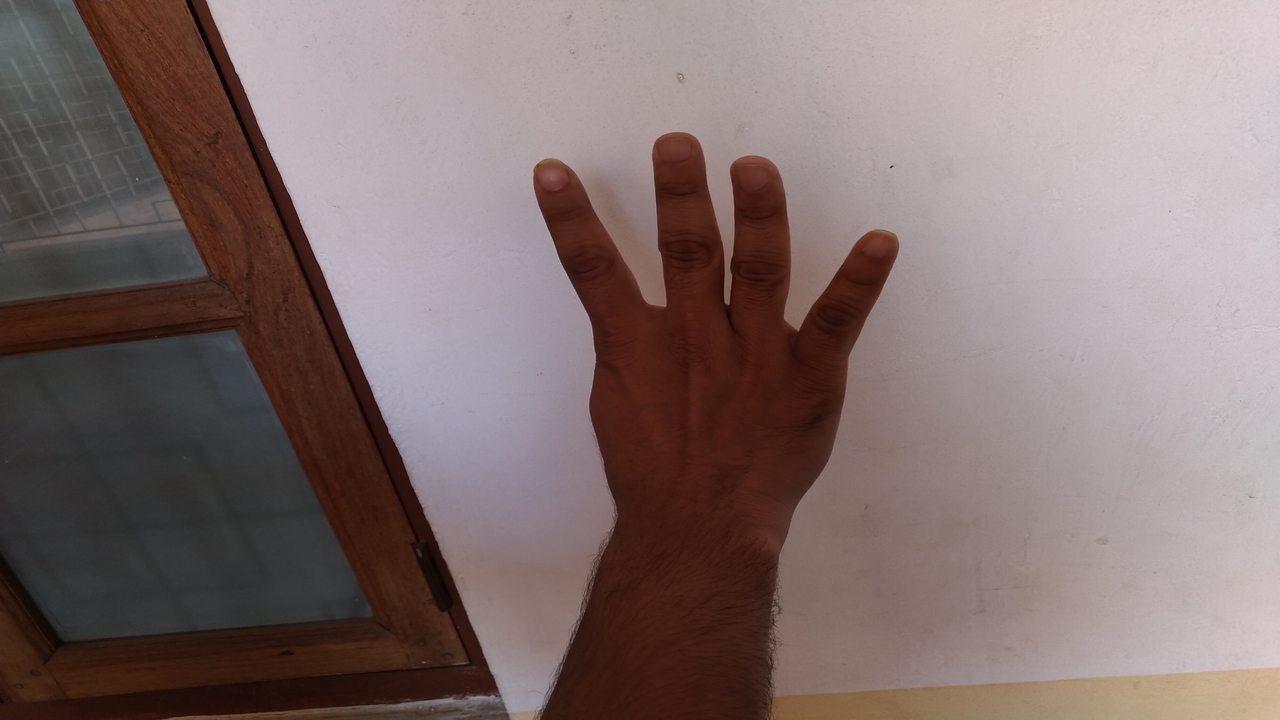fingertip: (844, 218, 910, 274), (524, 152, 586, 202), (730, 152, 790, 202), (648, 132, 710, 176)
